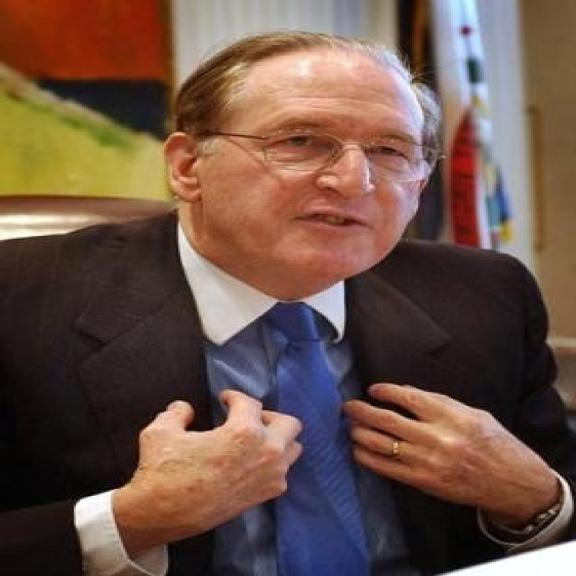face: (159, 47, 438, 292)
